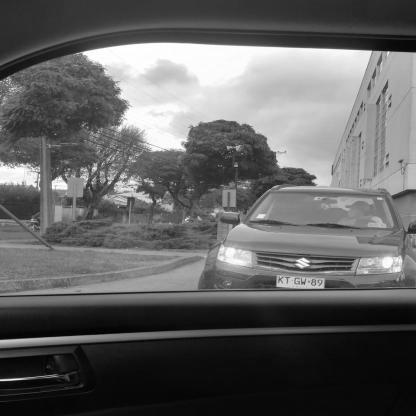Patente: (273, 273, 327, 293)
